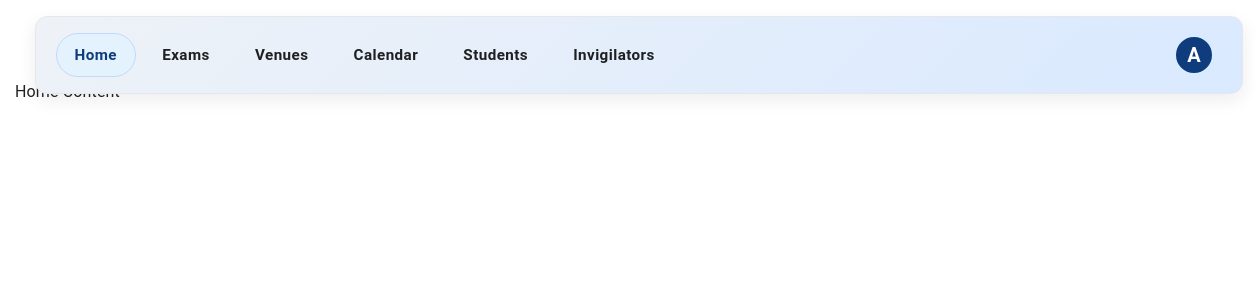
Test: Components - AdminLayout › shows invigilator link when admin has invigilator profile
The image size is (1260, 295).
Click the button named "account menu": click(1194, 55) left=1166, top=27, right=1222, bottom=83
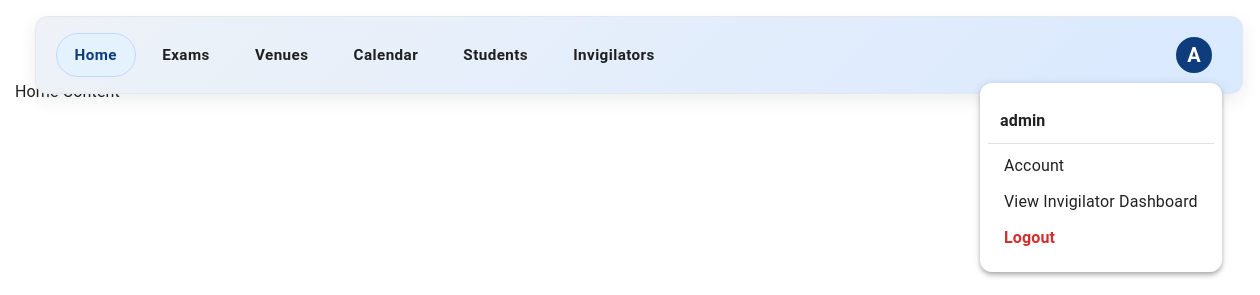
Result: the menu item "View Invigilator Dashboard" is shown at left=1004, top=192, right=1198, bottom=211
